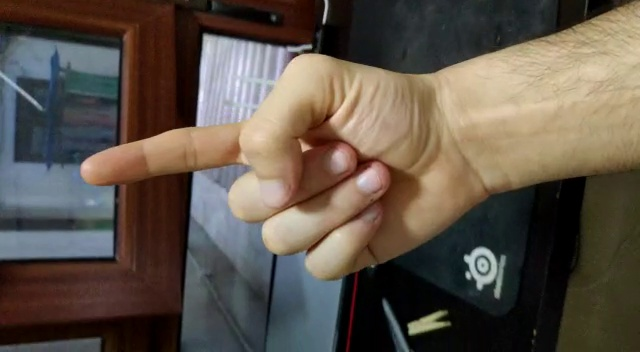One: (78, 118, 262, 189)
